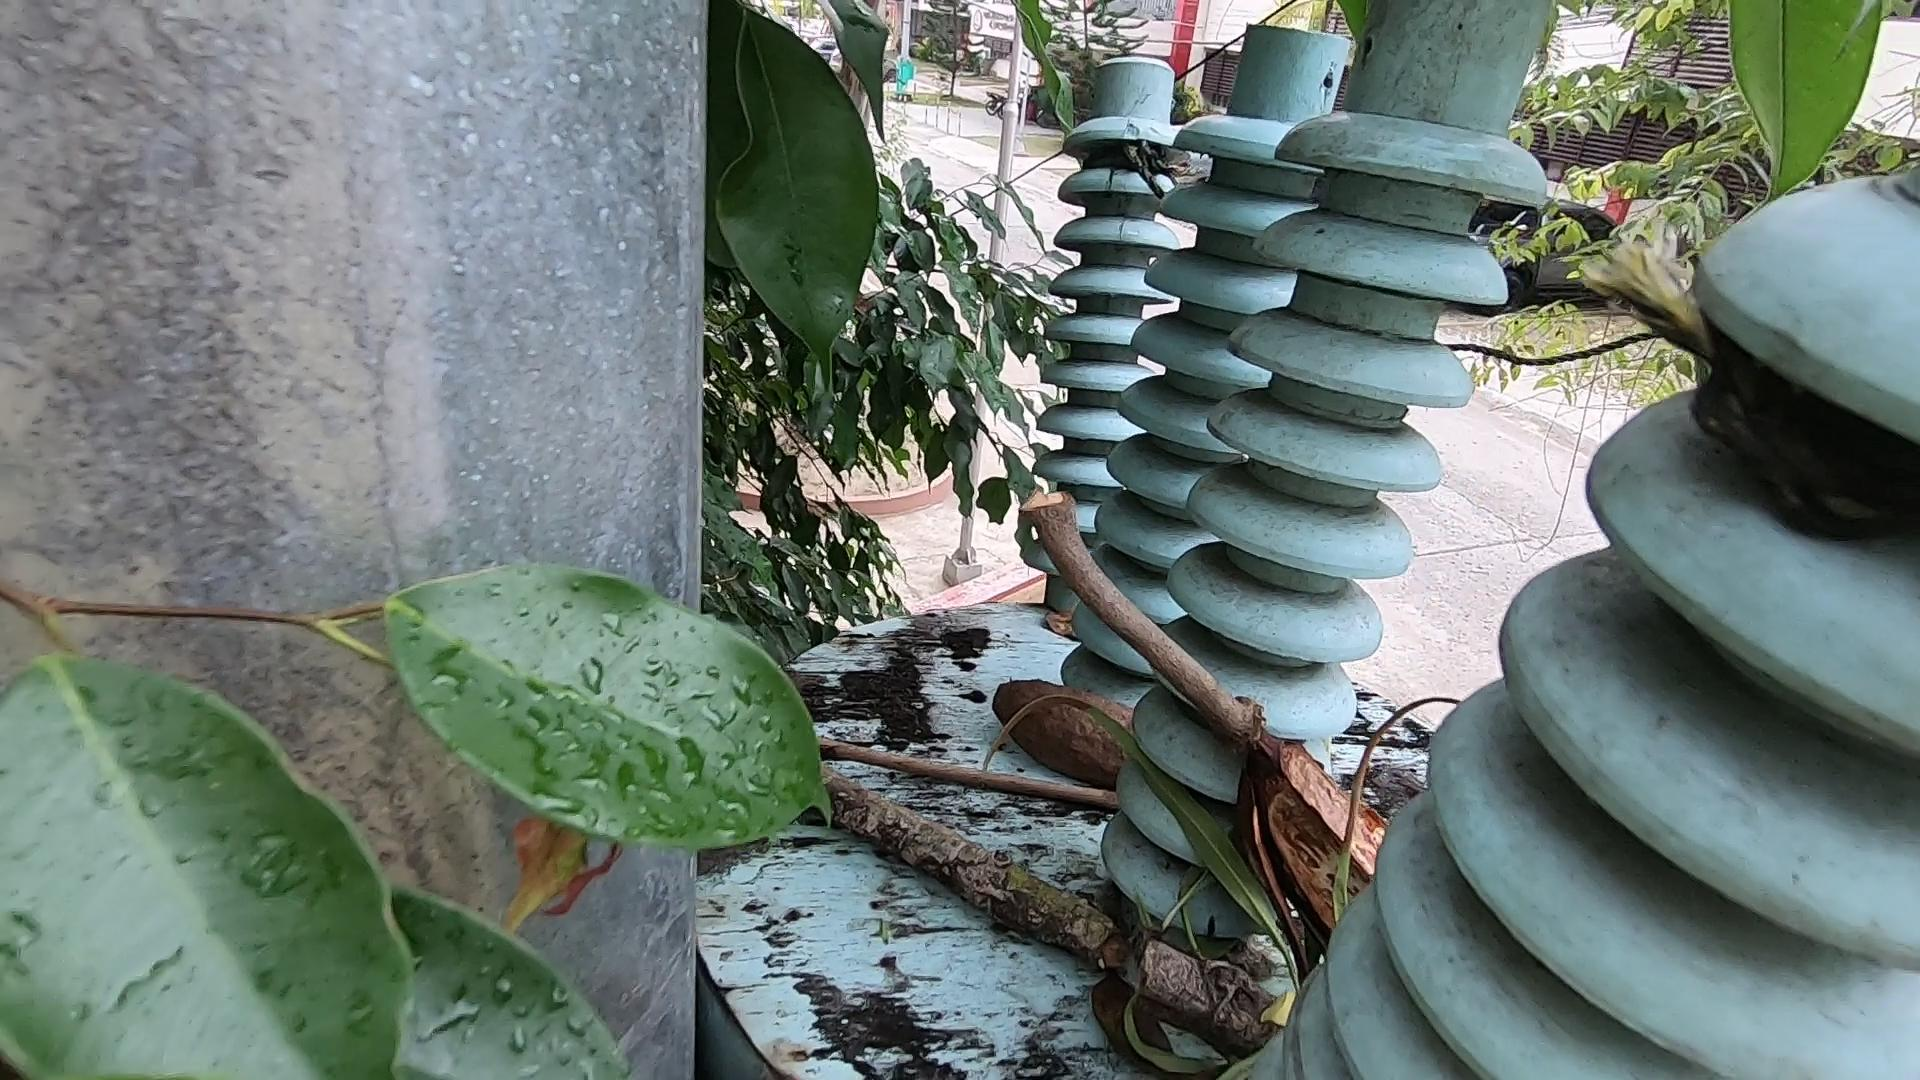branch with leaves: (820, 769, 1261, 1044)
leaf: (1022, 707, 1308, 1009), (1015, 588, 1110, 709)
mahogany fruit: (1215, 724, 1416, 953), (968, 673, 1143, 799)
tree branch: (1039, 495, 1266, 753), (829, 749, 1129, 814)
